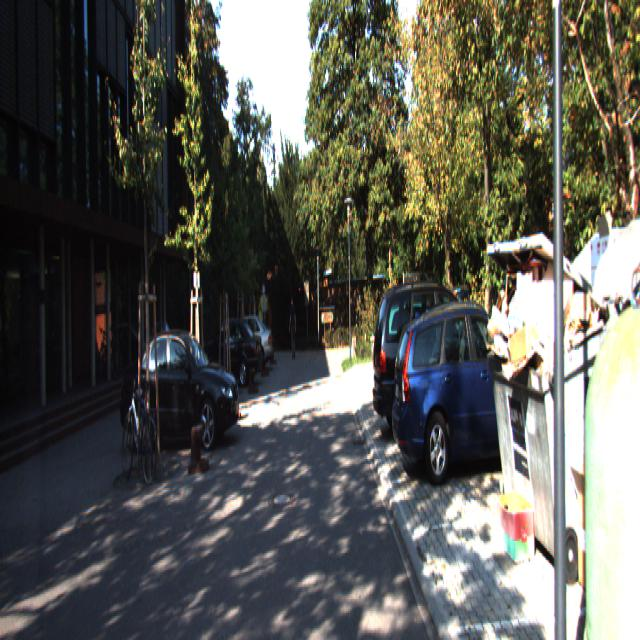Car: (389, 299, 561, 486), (369, 278, 499, 444), (118, 329, 240, 453), (194, 316, 263, 391), (218, 316, 272, 374)
